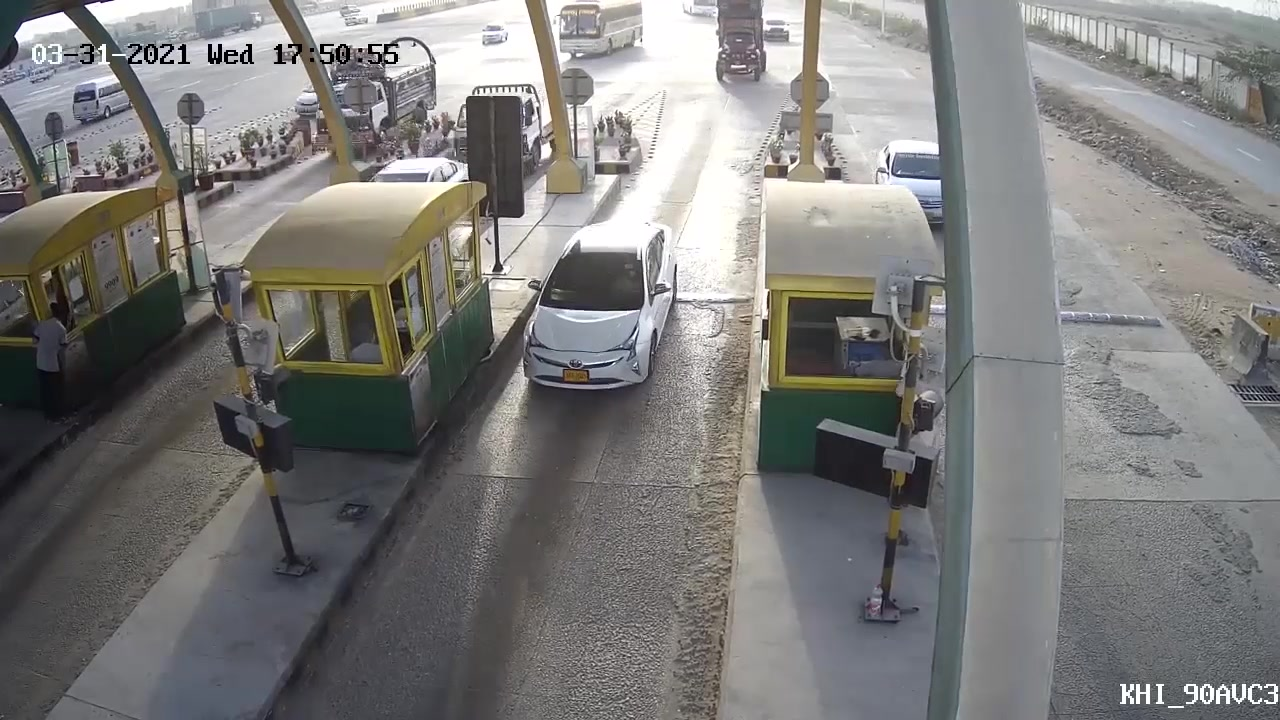F1: (507, 217, 678, 405)
